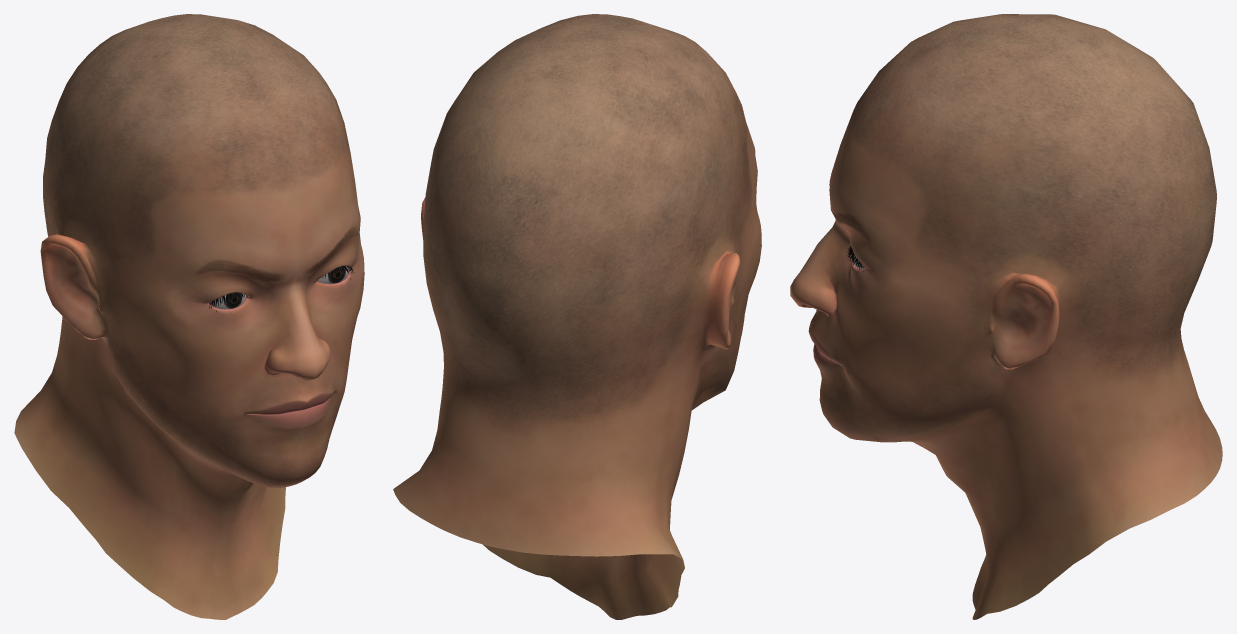
Rendered from Avatar_Shieh.fbx.
3 renders of one model, left to right at view 1: azimuth 30°, elevation 25°; view 2: azimuth 150°, elevation 25°; view 3: azimuth 270°, elevation 25°, orthographic. The views are drawn at different scales.
Parts seen in each view (by area): view 1: Head; view 2: Head; view 3: Head.
Boxes of the visible parts, left/top/right/bottom form: Head: left=14, top=14, right=364, bottom=619; Head: left=393, top=14, right=761, bottom=619; Head: left=790, top=14, right=1222, bottom=619.
Bounding box in the file's own units: 19.77 × 36.25 × 24.28.
